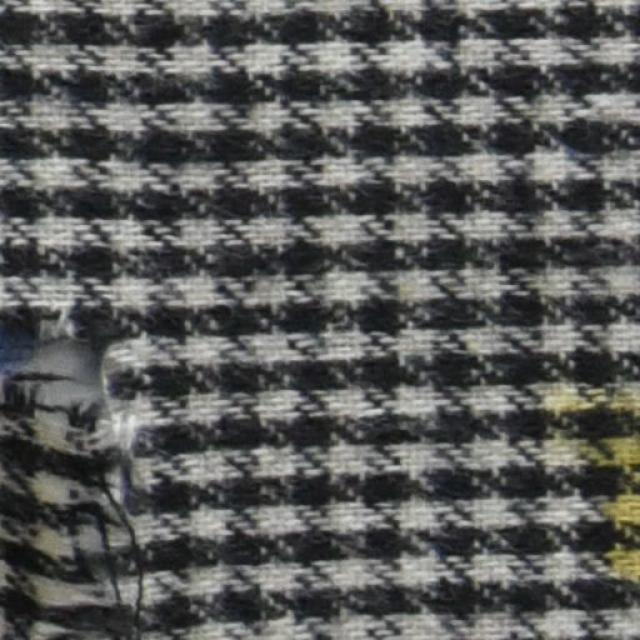Hole: (30, 332, 97, 395)
Snag: (3, 389, 155, 639)
Stain: (552, 375, 639, 600)
